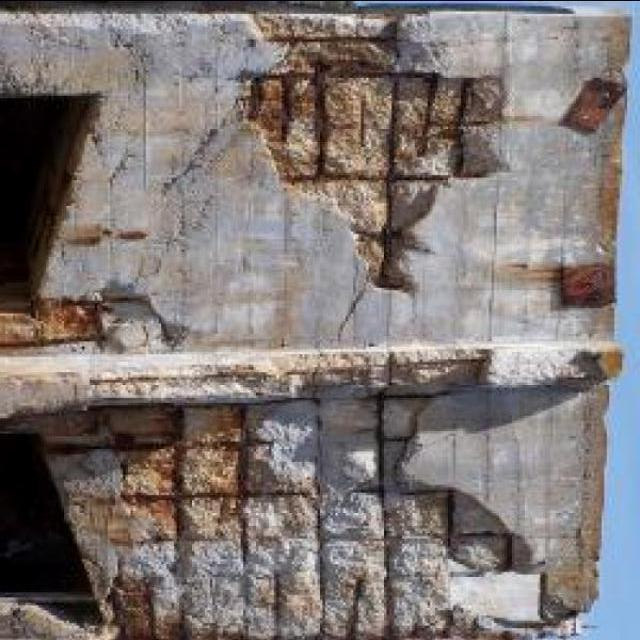corrosion: (66, 414, 451, 616), (229, 47, 540, 215)
crack: (0, 7, 621, 636), (493, 115, 624, 310), (18, 97, 98, 299), (0, 13, 153, 99), (277, 203, 370, 344), (2, 1, 593, 23), (503, 15, 614, 126), (157, 112, 249, 239), (368, 242, 471, 344), (140, 13, 267, 87), (93, 111, 159, 228), (179, 540, 253, 639), (154, 73, 236, 160), (319, 71, 385, 179), (414, 15, 513, 84), (485, 258, 573, 334), (257, 65, 494, 91), (277, 67, 298, 346), (276, 70, 328, 179), (389, 75, 444, 178), (253, 12, 396, 51), (324, 170, 411, 232), (76, 490, 163, 551), (382, 64, 404, 298), (175, 425, 243, 499), (242, 431, 320, 495), (243, 492, 319, 548), (499, 0, 513, 293), (17, 407, 111, 450), (103, 406, 181, 456), (207, 292, 283, 343), (422, 77, 467, 161), (120, 446, 179, 510), (572, 13, 631, 77), (143, 132, 201, 191), (179, 491, 247, 541), (177, 404, 243, 448), (242, 568, 284, 635), (457, 127, 513, 177), (253, 75, 290, 147), (69, 446, 124, 493), (283, 169, 454, 183), (390, 146, 456, 182), (462, 74, 507, 124), (138, 42, 150, 226), (237, 472, 252, 602), (491, 142, 501, 330)
dampness: (43, 435, 151, 637), (110, 423, 188, 639), (92, 371, 288, 387)
vegetation: (94, 286, 187, 352), (354, 227, 415, 297), (391, 18, 450, 77)
